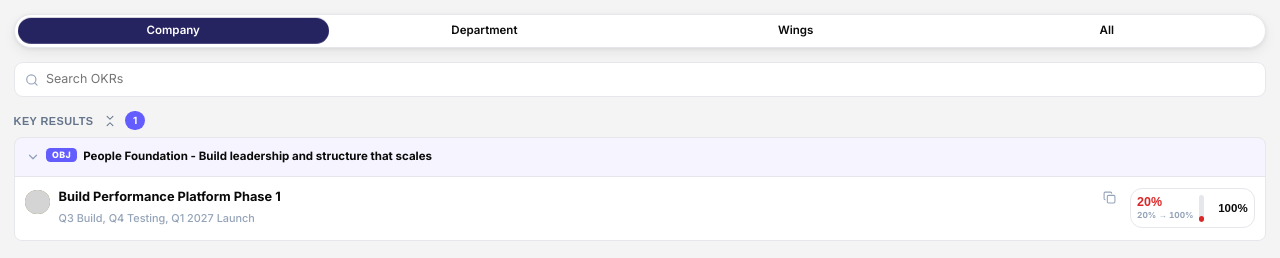
Test case: GoalOkrReferenceList › collapses key results under an objective
The width and height of the screenshot is (1280, 258).
Expected: the text "Build Performance Platform Phase 1" is shown, [59,189,281,204]
What coordinates should you click on to do the following:
click the button "People Foundation - Build leadership and structure that scales"
I would click on:
 (62, 155)
Its box is [15,138,1265,176].
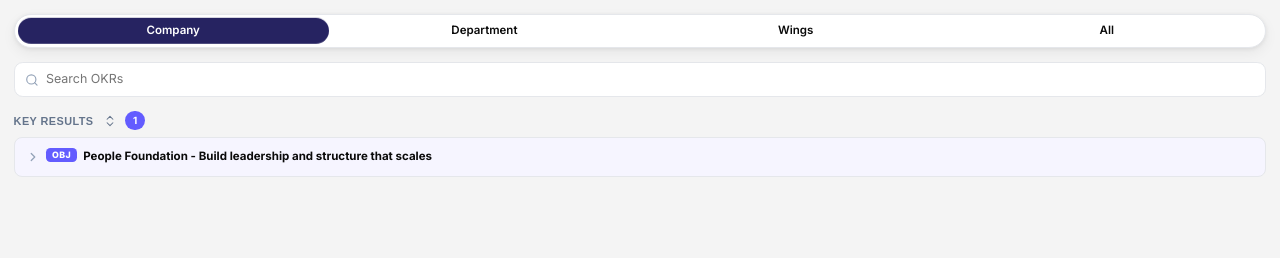
Now the button "Build Performance Platform Phase 1" is gone
What coordinates should you click on to do the following:
click the button "People Foundation - Build leadership and structure that scales"
I would click on:
 (62, 155)
Its box is [15,138,1265,176].
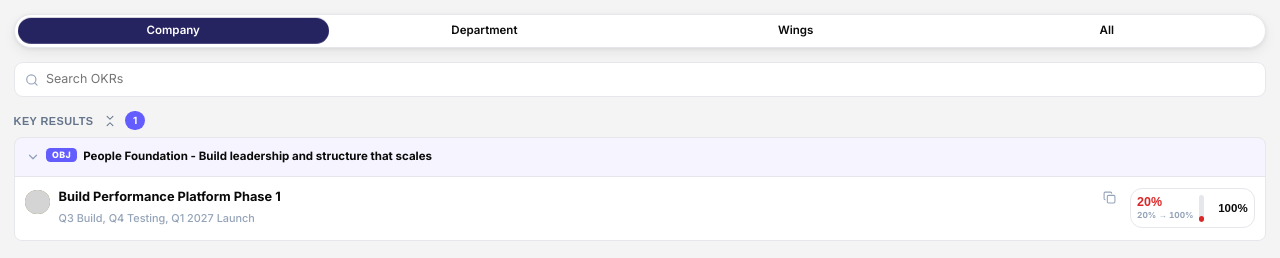
Now the text "Build Performance Platform Phase 1" is shown, box [59,189,281,204]
